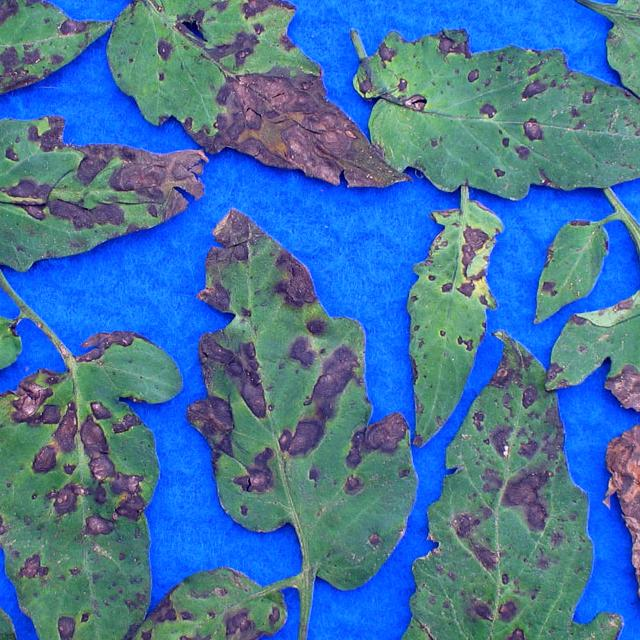Tomato Early blight leaf: (191, 214, 411, 596), (366, 300, 611, 640), (105, 0, 415, 191), (0, 340, 181, 640), (345, 51, 640, 194), (0, 118, 221, 273), (405, 191, 511, 448), (0, 0, 106, 148), (523, 203, 629, 338), (593, 0, 640, 144), (0, 574, 19, 640), (0, 630, 56, 640)
